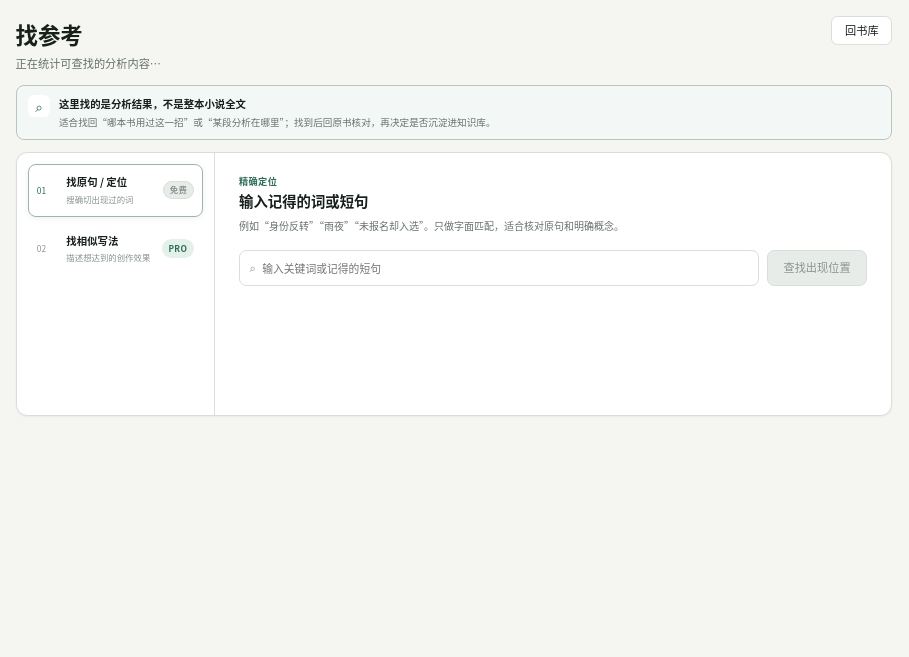
Test: 找参考 › 关键词结果说清楚在多大范围里命中了几条
The width and height of the screenshot is (909, 657).
Type "反转" into the field with test id "cb-input" at {"x": 506, "y": 268}, box [262,251,749,285]
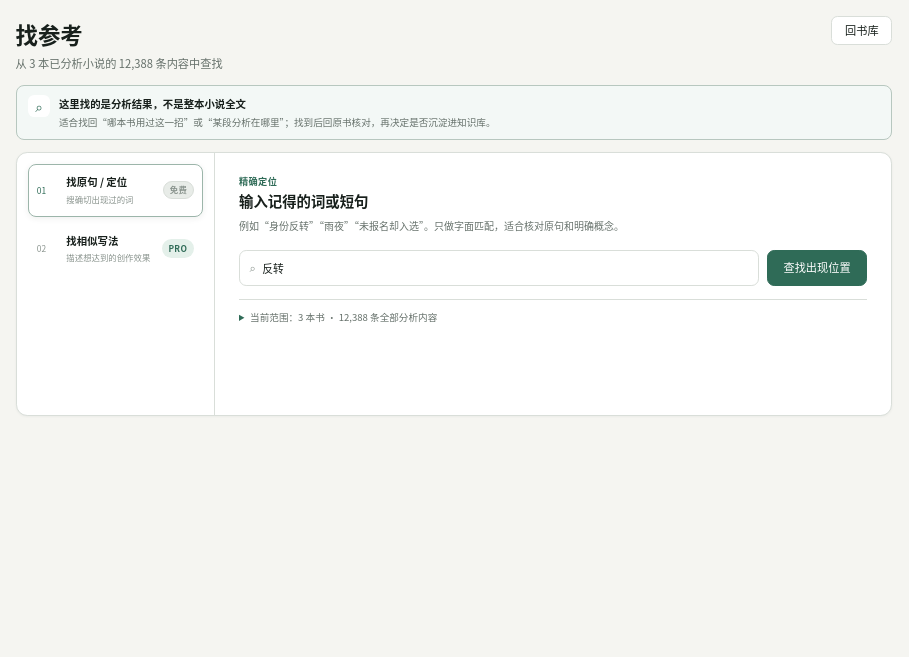
Click the button with test id "cb-run" at {"x": 817, "y": 268}, box [767,250,867,286]
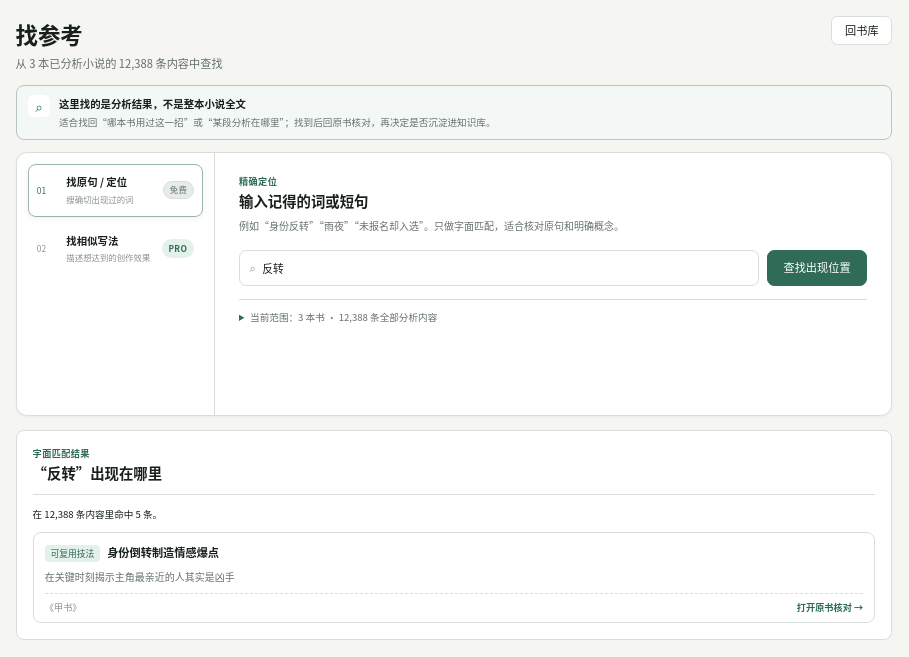
Check: the text with test id "cb-keyword-count" shows "12,388", box [44,507,74,521]
Check: the text with test id "cb-keyword-count" shows "5 条", box [33,507,162,521]
